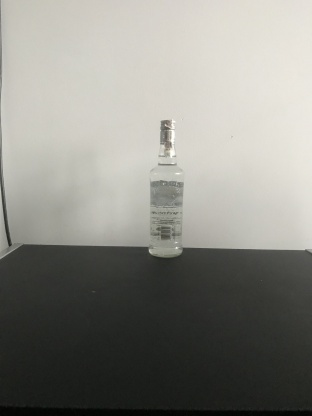nakretka: (158, 116, 177, 145)
